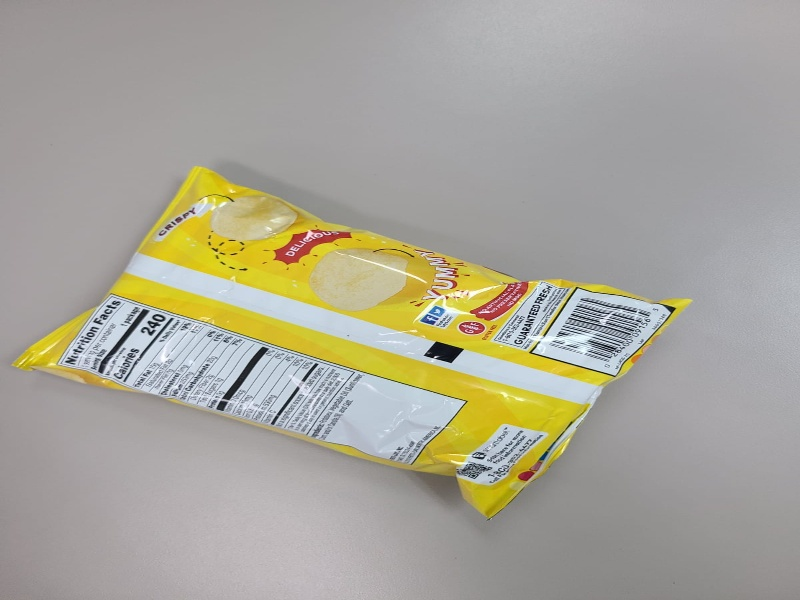lays: (11, 159, 698, 522)
